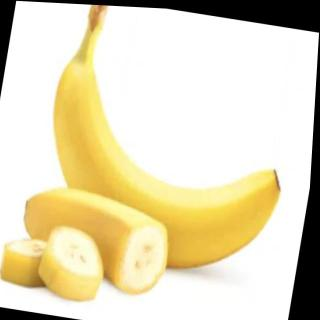banana: (30, 54, 302, 290), (14, 175, 182, 299)
